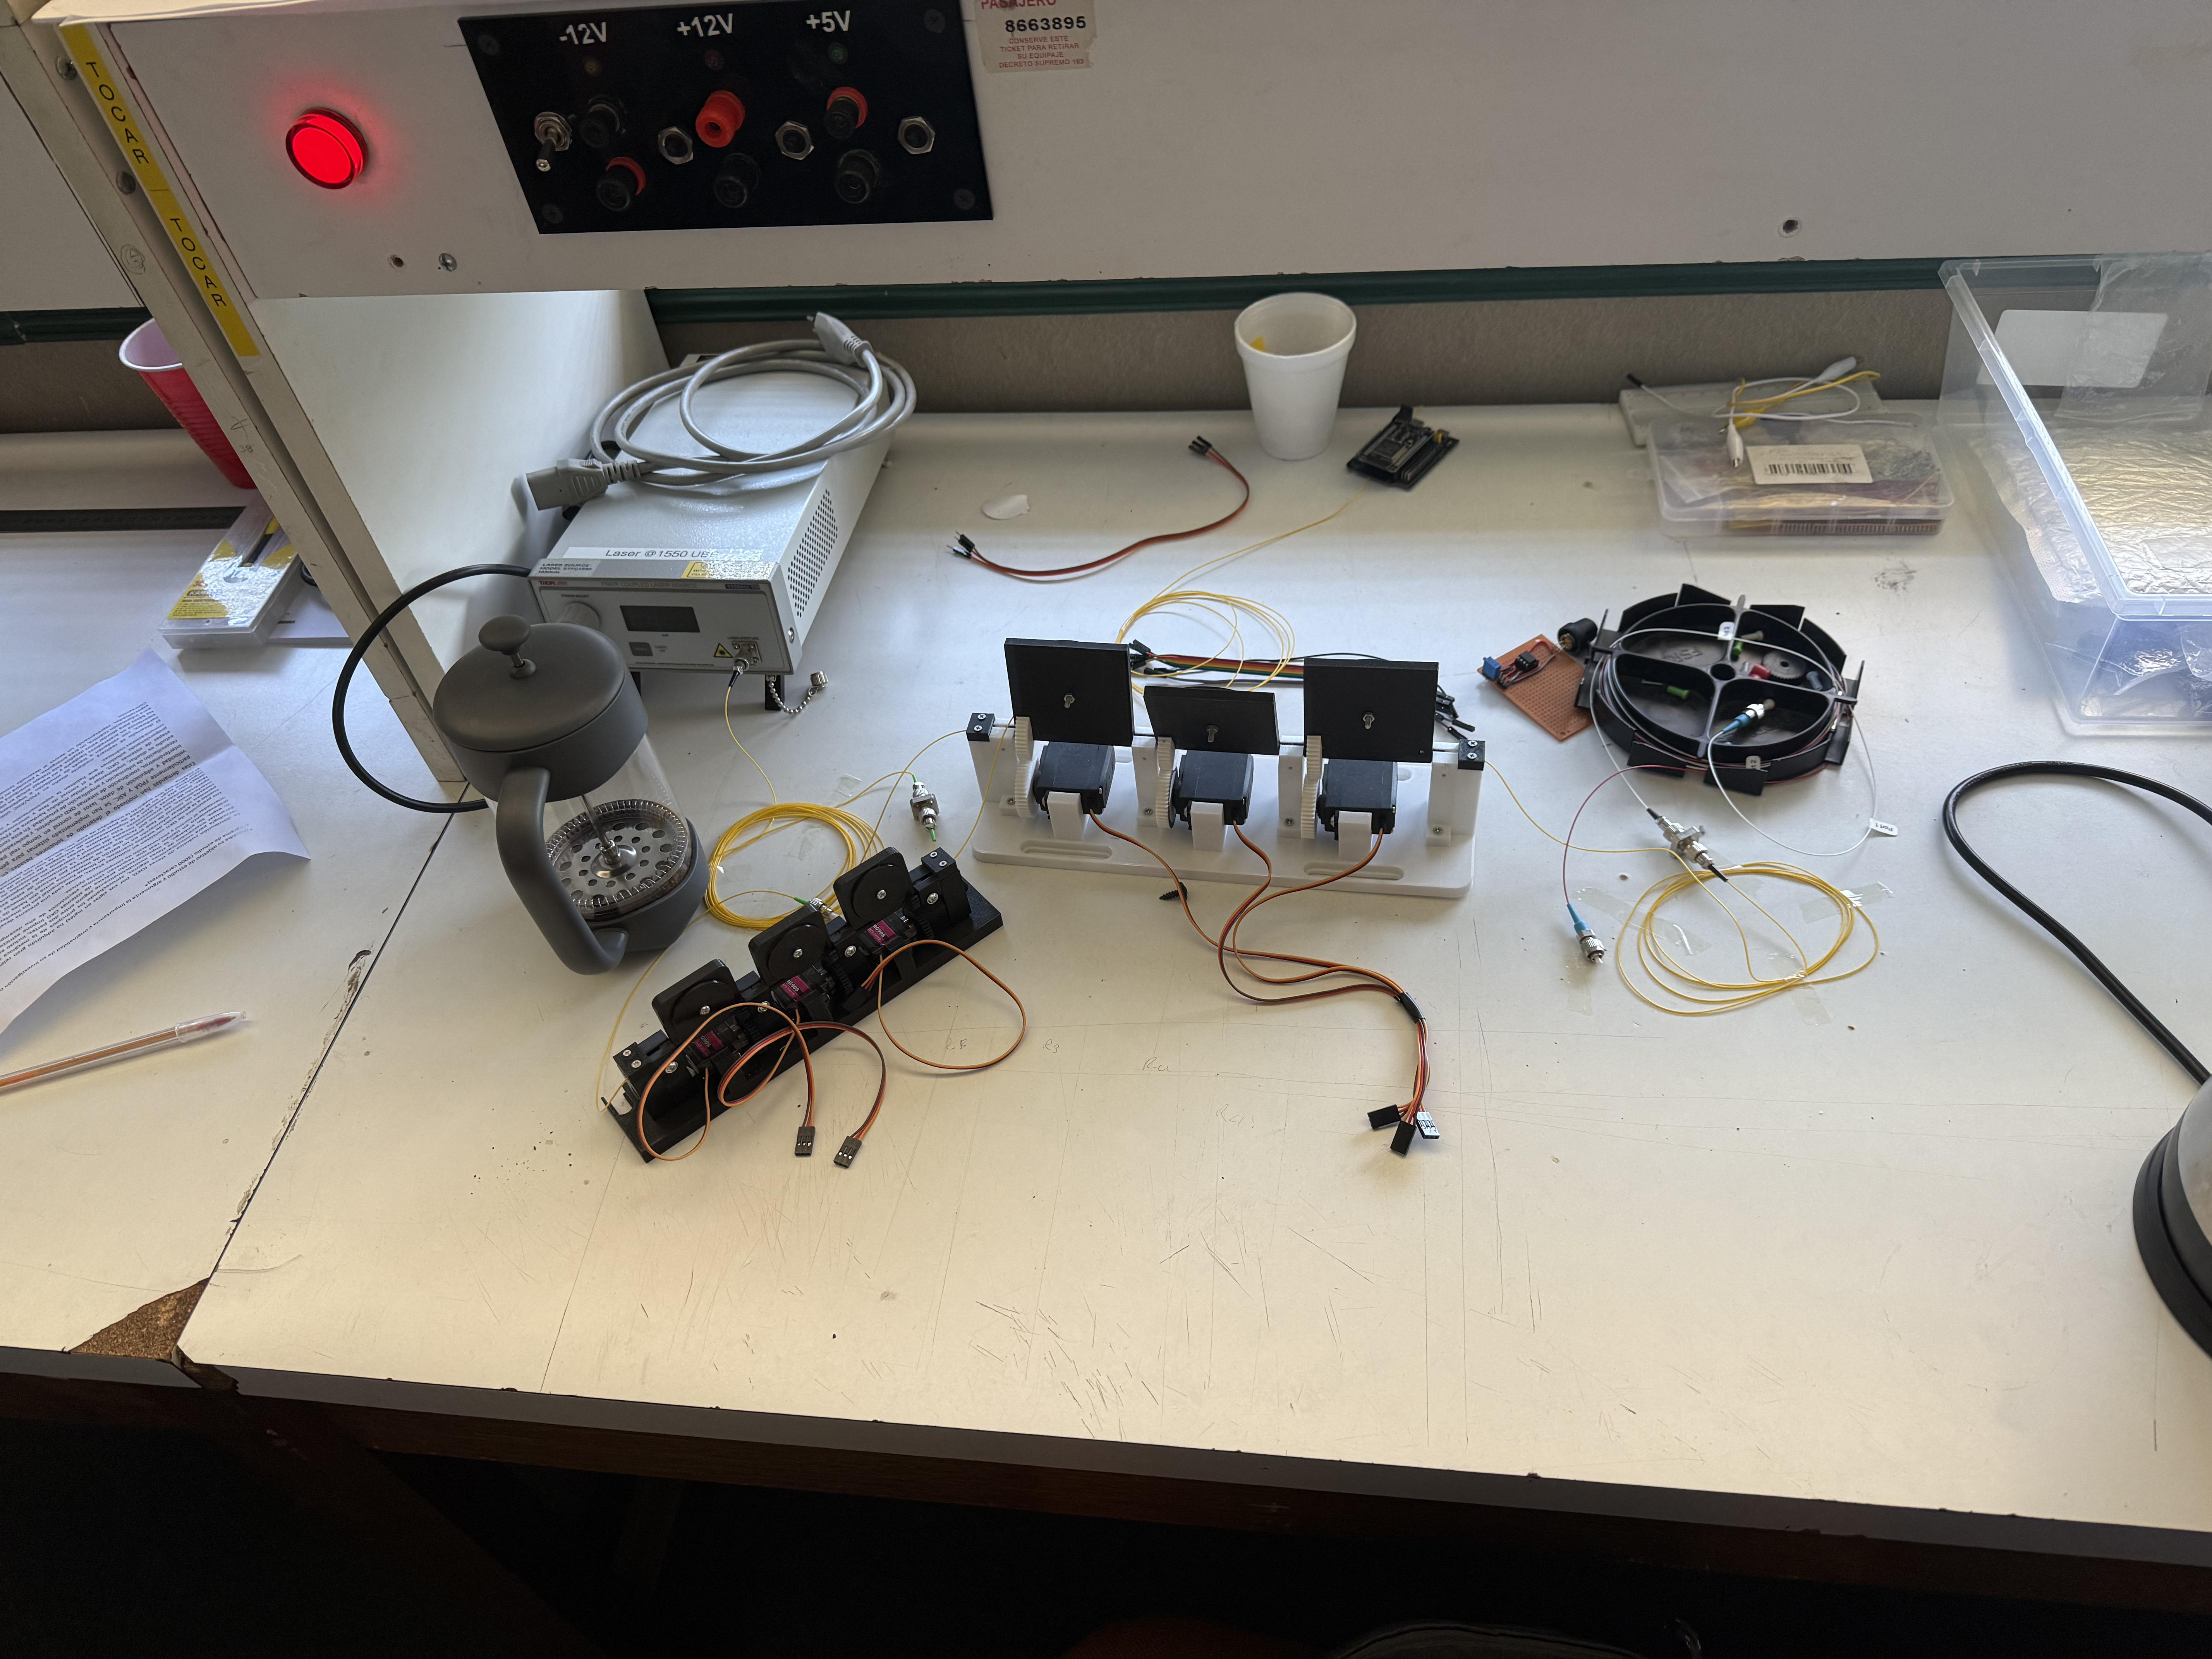laser: (494, 343, 933, 718)
paddle_polarization_controller: (544, 823, 1055, 1193), (957, 622, 1510, 920)
